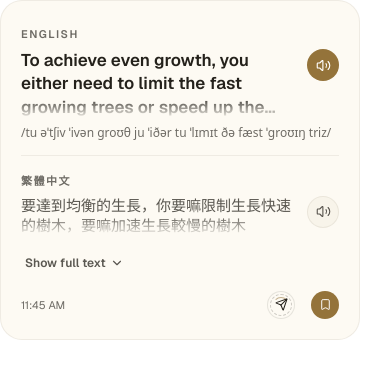
Test: a long sentence on a card › cuts to three lines and one per reading, then opens and closes the whole card
Click the button "Show full text".
click(74, 263)  # box [21,245,128,281]
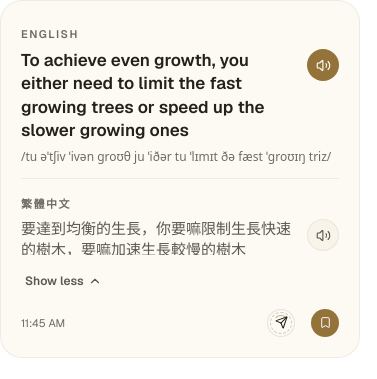
Check: the button named "Show full text" is expanded
Check: the button named "Show full text" reads "Show less"
Click the button named "Show full text".
click(63, 285)  # box [21,267,106,303]
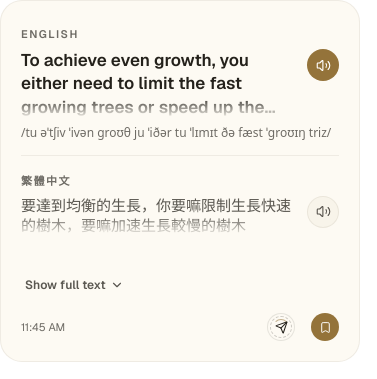
Check: the button "Show full text" is collapsed, box [21,267,128,303]
